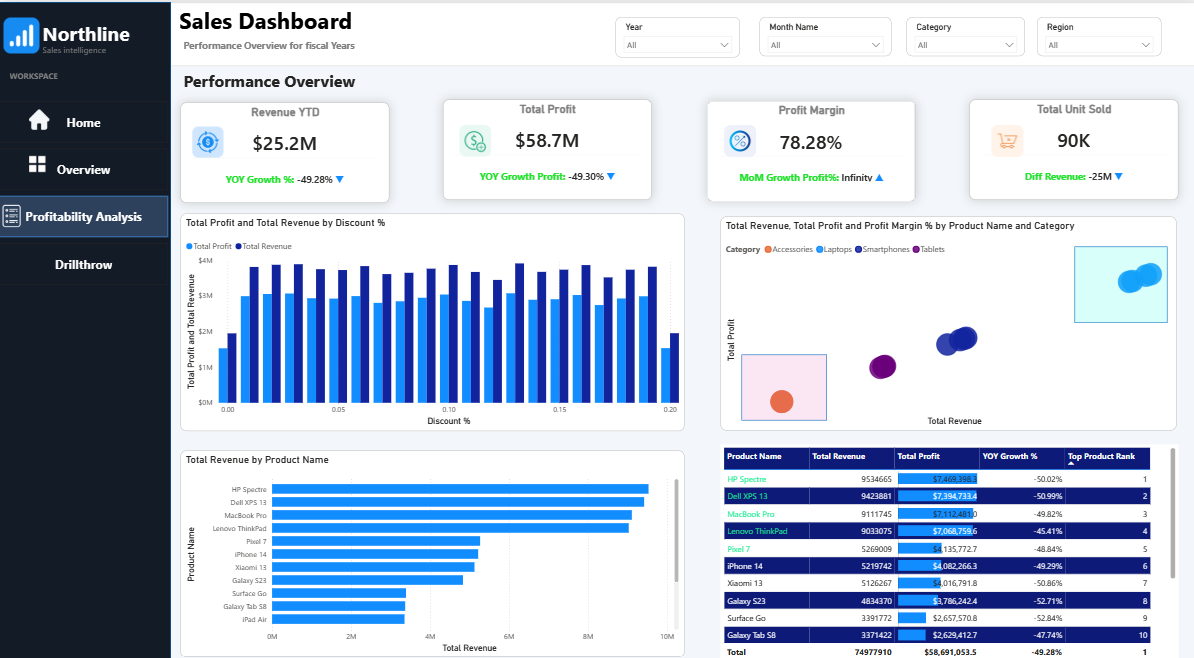

What the dashboard file says about the page in this screenshot:
{"tool":"powerbi","page":{"name":"Profitability Analysis","canvas":[2000,1100],"ordinal":2},"visuals":[{"type":"shape","box":[285,0,1715,107.5],"z":0},{"type":"textbox","box":[285,0,335,65],"z":1000},{"type":"slicer","fields":{"Values":["Calender Table.Year"]},"box":[1027.5,25,207.5,67.5],"z":2000},{"type":"slicer","fields":{"Values":["Calender Table.Month Name"]},"box":[1267.5,25,220,65],"z":3000},{"type":"slicer","fields":{"Values":["data.Category"]},"box":[1512.5,25,197.5,65],"z":4000},{"type":"slicer","fields":{"Values":["data.Region"]},"box":[1730,25,207.5,65],"z":5000},{"type":"shape","box":[0,0,286.7,1100],"z":6000},{"type":"textbox","box":[302.5,55,317.5,42.5],"z":7000},{"type":"textbox","box":[67.5,25,172.5,57.5],"z":8000},{"type":"image","box":[8.3,13.3,60,86.7],"z":9000},{"type":"textbox","box":[67.5,65,157.5,31.2],"z":10000},{"type":"cardVisual","title":"Revenue YTD","fields":{"Data":["Measure.YTD Revenue"]},"box":[302.5,166.3,348,167],"z":11000},{"type":"textbox","box":[302.5,107.5,298,46],"z":12000},{"type":"image","box":[317.8,206.7,61.1,52.2],"z":13000},{"type":"cardVisual","title":"Total Profit","fields":{"Data":["Measure.Total Profit"]},"box":[740.8,163.6,348,167],"z":14000},{"type":"image","box":[740,205,106.7,52.7],"z":15000},{"type":"cardVisual","title":"Profit Margin","fields":{"Data":["Measure.Profit Margin %"]},"box":[1179.2,164.7,348,167.5],"z":16000},{"type":"image","box":[1202.5,205,65,53],"z":17000},{"type":"cardVisual","title":"Total Unit Sold","fields":{"Data":["Measure.Total Unit"]},"box":[1617.5,162.5,348,167],"z":18000},{"type":"image","box":[1650,205,61.7,53.3],"z":19000},{"type":"textbox","box":[13,108,133,35],"z":20000},{"type":"pageNavigator","box":[0,165,282.5,307.5],"z":21000},{"type":"clusteredColumnChart","fields":{"Category":["data.Discount %"],"Y":["Measure.Total Profit","Measure.Total Revenue"]},"box":[302.5,352.5,840,362.5],"z":22000},{"type":"scatterChart","fields":{"Category":["data.Product Name"],"Series":["data.Category"],"Size":["Measure.Profit Margin %"],"X":["Measure.Total Revenue"],"Y":["Measure.Total Profit"]},"box":[1202.5,357.5,760,356.7],"z":23000},{"type":"clusteredBarChart","fields":{"Category":["data.Product Name"],"Y":["Measure.Total Revenue"]},"box":[302.5,747.5,840,345],"z":24000},{"type":"tableEx","fields":{"Values":["data.Product Name","Measure.Total Revenue","Measure.Total Profit","Measure.YOY Growth %","Measure.Top Product Rank"]},"box":[1203.3,736.7,763.3,363.3],"z":25000},{"type":"shape","box":[1792.5,407.5,155,127.5],"z":26000},{"type":"shape","box":[1237.5,587.5,142.5,110],"z":27000},{"type":"image","box":[51,176,34,42],"z":28000},{"type":"image","box":[42,250,43,40],"z":29000},{"type":"image","box":[0,337.5,42,38],"z":30000}]}

Visuals, with their boxes on the page's 2000x1100 design canvas (x1, y1, x2, y2). These are canvas units, not pixel positions in the 1194x658 screenshot, which may show the page scaled, cropped or inside an application window:
shape: 285,0,2000,108
textbox: 285,0,620,65
slicer - Calender Table.Year: 1028,25,1235,92
slicer - Calender Table.Month Name: 1268,25,1488,90
slicer - data.Category: 1512,25,1710,90
slicer - data.Region: 1730,25,1938,90
shape: 0,0,287,1100
textbox: 302,55,620,98
textbox: 68,25,240,82
image: 8,13,68,100
textbox: 68,65,225,96
"Revenue YTD" cardVisual: 302,166,650,333
textbox: 302,108,600,154
image: 318,207,379,259
"Total Profit" cardVisual: 741,164,1089,331
image: 740,205,847,258
"Profit Margin" cardVisual: 1179,165,1527,332
image: 1202,205,1268,258
"Total Unit Sold" cardVisual: 1618,162,1966,330
image: 1650,205,1712,258
textbox: 13,108,146,143
pageNavigator: 0,165,282,472
clusteredColumnChart - data.Discount % x Measure.Total Profit: 302,352,1142,715
scatterChart - data.Product Name x data.Category: 1202,358,1962,714
clusteredBarChart - data.Product Name x Measure.Total Revenue: 302,748,1142,1092
tableEx - data.Product Name x Measure.Total Revenue: 1203,737,1967,1100
shape: 1792,408,1948,535
shape: 1238,588,1380,698
image: 51,176,85,218
image: 42,250,85,290
image: 0,338,42,376
